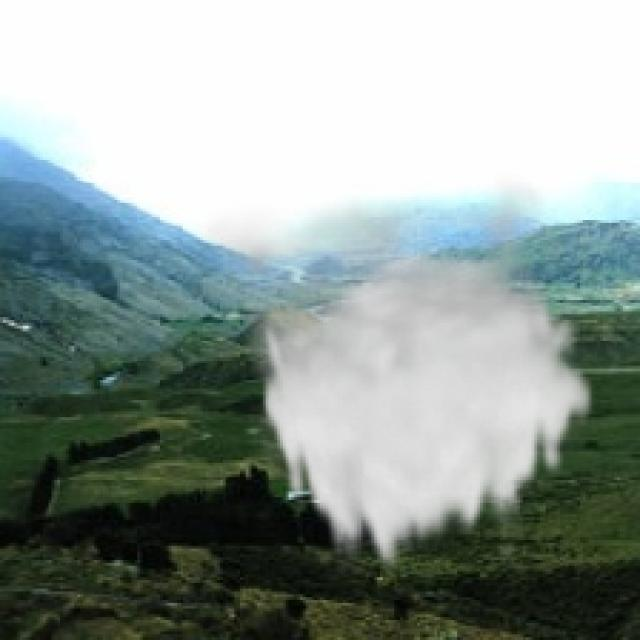smoke: (189, 172, 597, 577)
